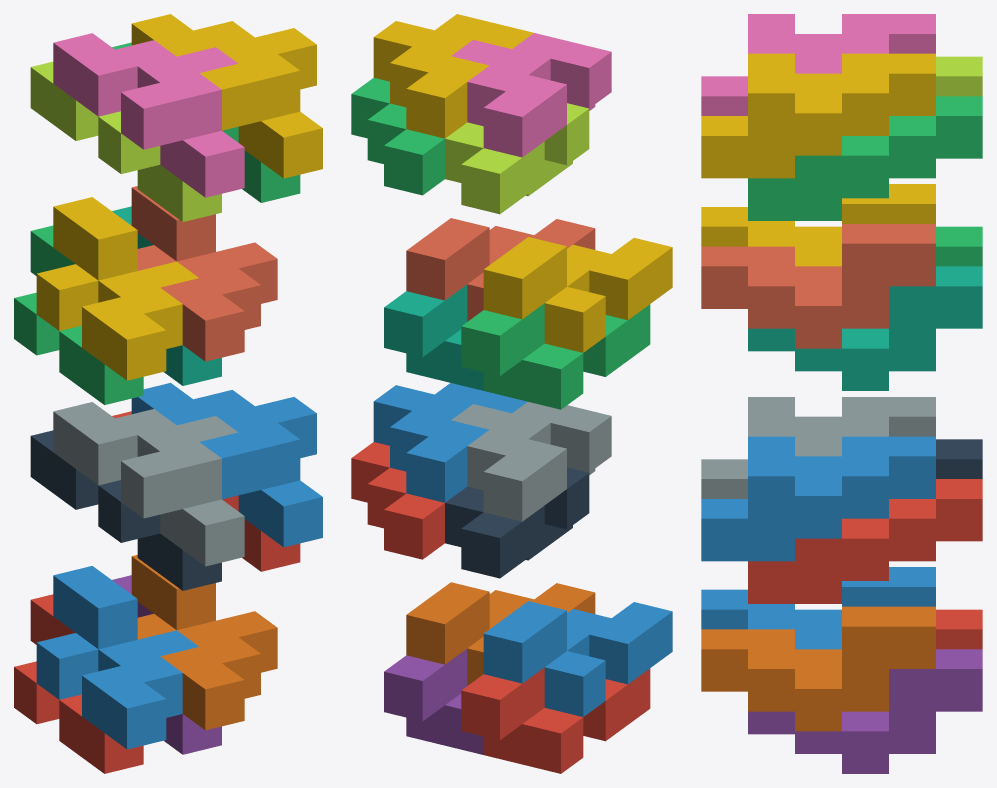
File: tiling.obj
3 views of the same model, side by side, from view 1: azimuth 30°, elevation 25°; view 2: azimuth 150°, elevation 25°; view 3: azimuth 270°, elevation 25° (orthographic). The views are drawn at different scales.
Parts seen in each view (by area): view 1: copy_2_domain_4, copy_2_domain_2, copy_1_domain_2, copy_1_domain_4, copy_2_domain_8, copy_2_domain_6, copy_1_domain_8, copy_1_domain_6, copy_2_domain_1, copy_2_domain_3, copy_1_domain_1, copy_1_domain_3 (+4 smaller); view 2: copy_1_domain_4, copy_1_domain_2, copy_2_domain_4, copy_2_domain_2, copy_1_domain_1, copy_1_domain_3, copy_2_domain_8, copy_2_domain_6, copy_2_domain_1, copy_2_domain_3, copy_1_domain_6, copy_1_domain_8 (+4 smaller); view 3: copy_2_domain_6, copy_2_domain_8, copy_1_domain_6, copy_1_domain_8, copy_2_domain_5, copy_2_domain_7, copy_1_domain_7, copy_1_domain_5, copy_2_domain_2, copy_2_domain_4, copy_1_domain_2, copy_1_domain_4 (+4 smaller).
Boxes of the visible parts, x1,y1,x2,y2 form: copy_2_domain_4: (53, 33, 244, 197); copy_2_domain_2: (53, 402, 244, 566); copy_1_domain_2: (36, 566, 198, 749); copy_1_domain_4: (36, 197, 198, 380); copy_2_domain_8: (131, 14, 322, 178); copy_2_domain_6: (131, 383, 322, 547); copy_1_domain_8: (131, 186, 277, 361); copy_1_domain_6: (131, 555, 277, 730); copy_2_domain_1: (30, 430, 221, 590); copy_2_domain_3: (30, 61, 221, 221); copy_1_domain_1: (14, 594, 143, 773); copy_1_domain_3: (14, 225, 143, 404); copy_1_domain_4: (483, 237, 672, 352); copy_1_domain_2: (483, 601, 672, 716); copy_2_domain_4: (451, 33, 611, 157); copy_2_domain_2: (451, 402, 611, 521); copy_1_domain_1: (461, 667, 650, 773); copy_1_domain_3: (461, 303, 650, 409); copy_2_domain_8: (373, 14, 533, 138); copy_2_domain_6: (373, 383, 527, 502); copy_2_domain_1: (445, 467, 589, 578); copy_2_domain_3: (445, 103, 589, 214); copy_1_domain_6: (406, 582, 595, 685); copy_1_domain_8: (406, 218, 595, 321); copy_2_domain_6: (701, 436, 935, 561); copy_2_domain_8: (701, 53, 935, 178); copy_1_domain_6: (701, 606, 935, 731); copy_1_domain_8: (701, 224, 935, 348); copy_2_domain_5: (748, 479, 982, 603); copy_2_domain_7: (748, 96, 982, 220); copy_1_domain_7: (748, 266, 982, 390); copy_1_domain_5: (748, 649, 982, 773); copy_2_domain_2: (701, 397, 935, 498); copy_2_domain_4: (701, 14, 935, 115); copy_1_domain_2: (701, 567, 935, 649); copy_1_domain_4: (701, 184, 935, 266).
Size of the model in its own units: 6 by 16 by 6.
